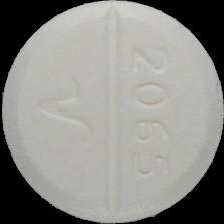68788-9259: (0, 0, 224, 224)
